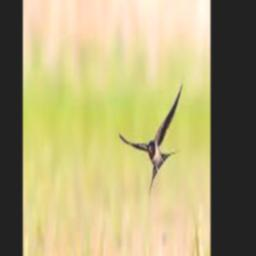Swallow: (118, 84, 182, 191)
